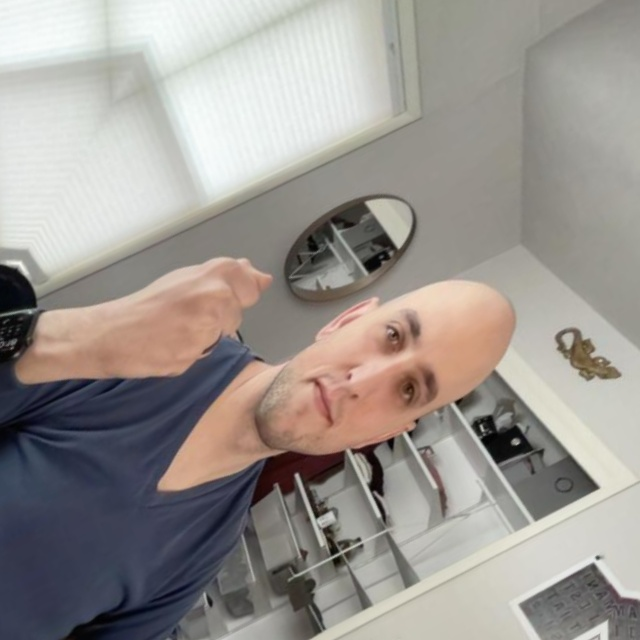Rock: (0, 0, 32, 298)
